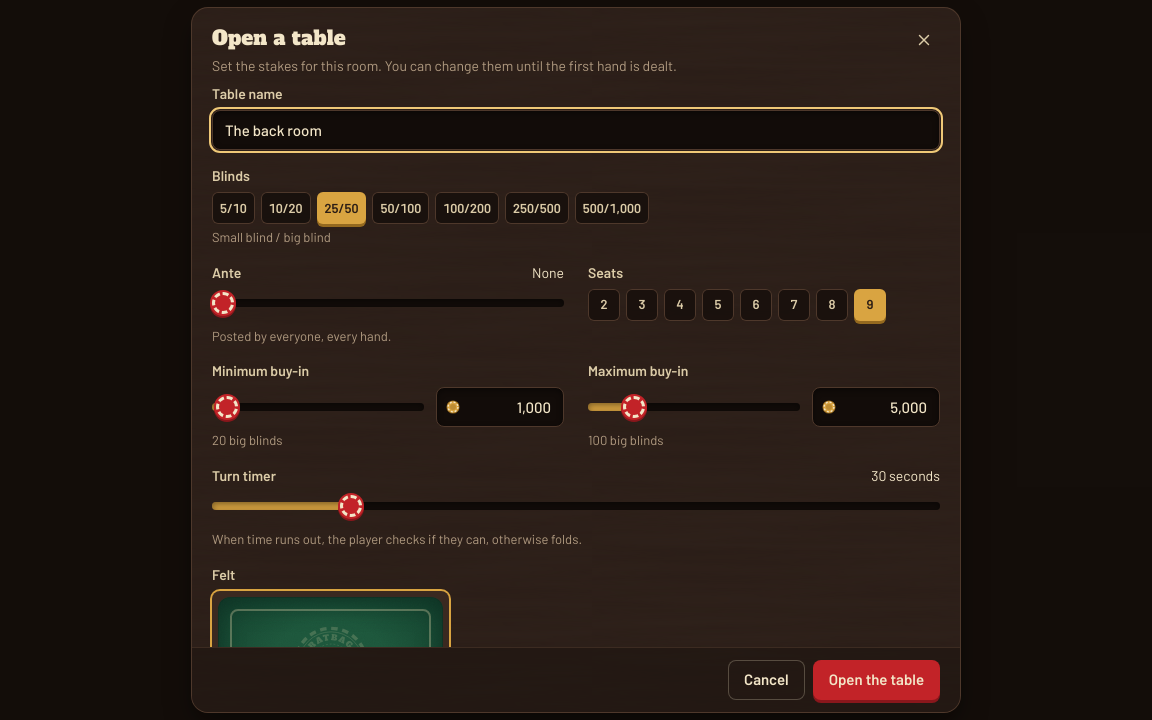
<OpenTableDialog> › shows the server error when the server refuses
What coordinates should you click on to do the following:
click the button "Open the table"
I would click on:
 (876, 680)
Its box is [813,660,940,700].
(page scrolled)
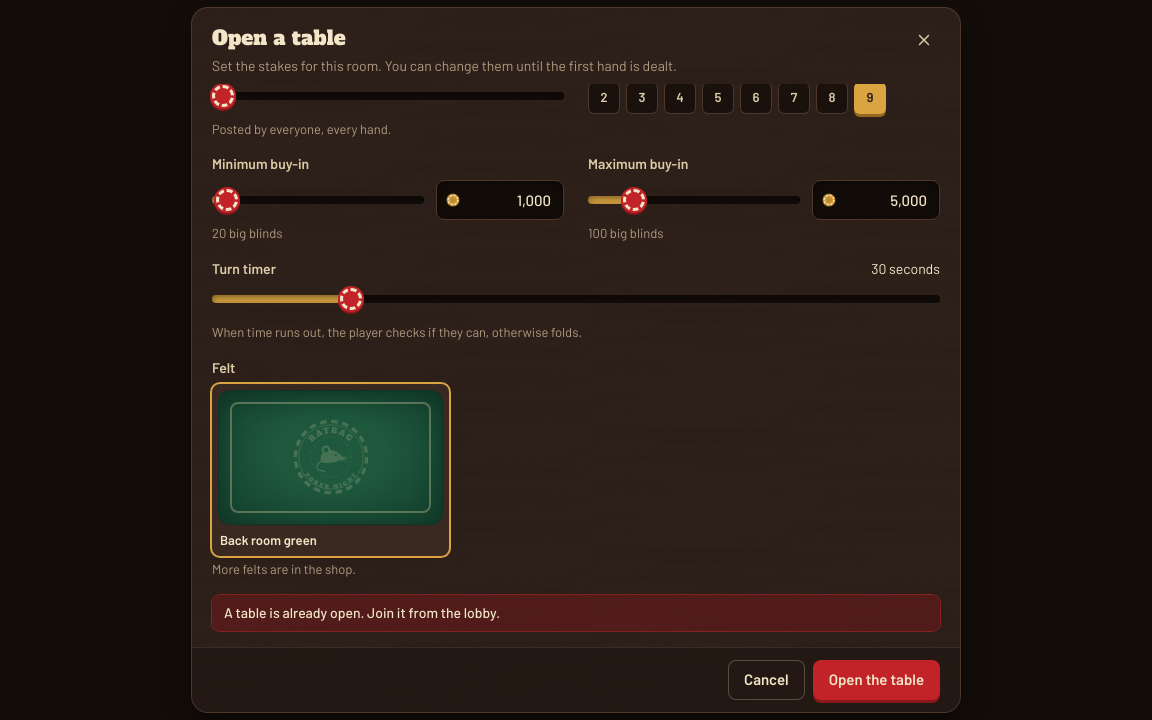
expect the text "A table is already open. Join it from the lobby." is shown: met, box [212,595,940,631]
